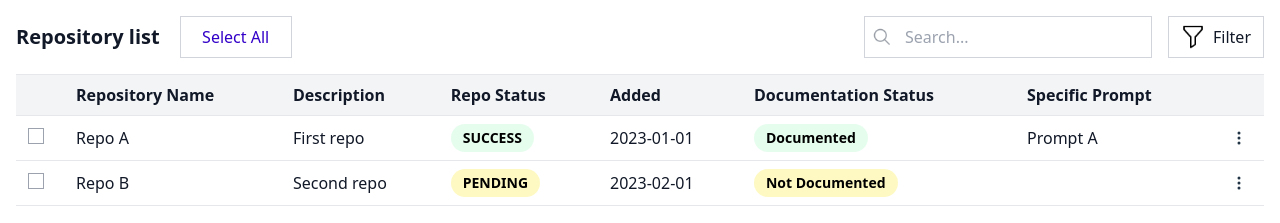
Test case: AdminRepoDataTable - Integration Tests › filters via search field
This screenshot has width=1280, height=223.
Type "First" into the field with placeholder "Search...".
click(1008, 37); type("First")  # box [864,16,1152,58]
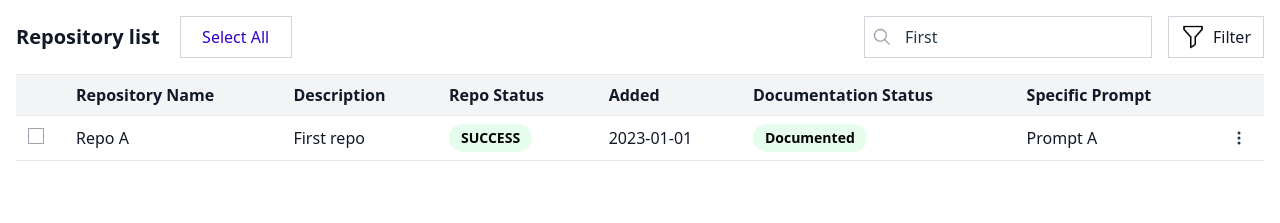
Expected: the text "Repo A" is shown, [64,116,281,160]
Now the text "Repo B" is gone
